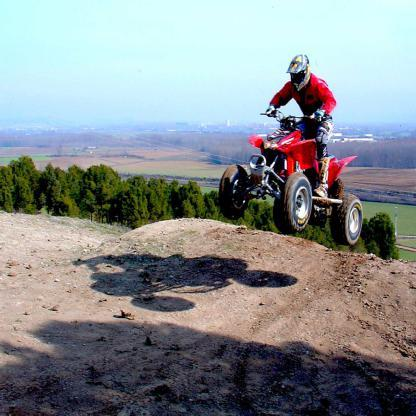motorcycle: (225, 112, 360, 228)
